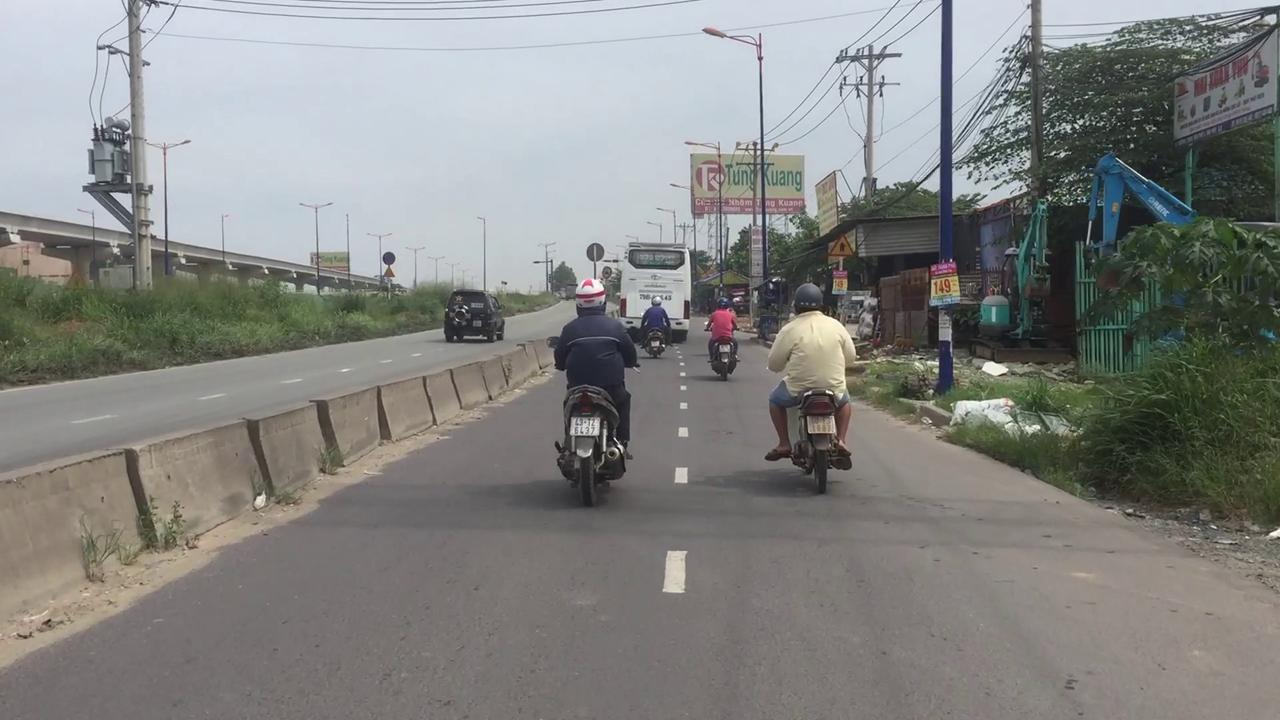P.127: (828, 233, 856, 258)
